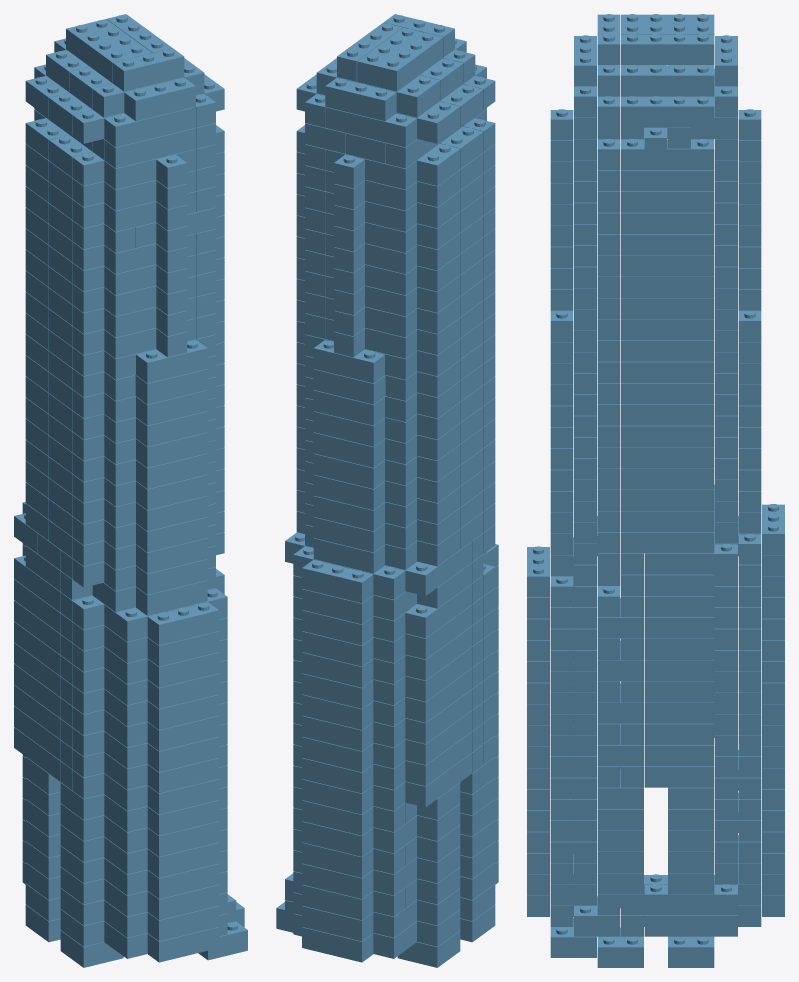
Rendered from 251_vessel_L1.glb.
3 renders of one model, left to right at view 1: azimuth 30°, elevation 25°; view 2: azimuth 150°, elevation 25°; view 3: azimuth 270°, elevation 25°, orthographic.
Bounding box in the file's own units: 7.98 × 42.13 × 10.98.
